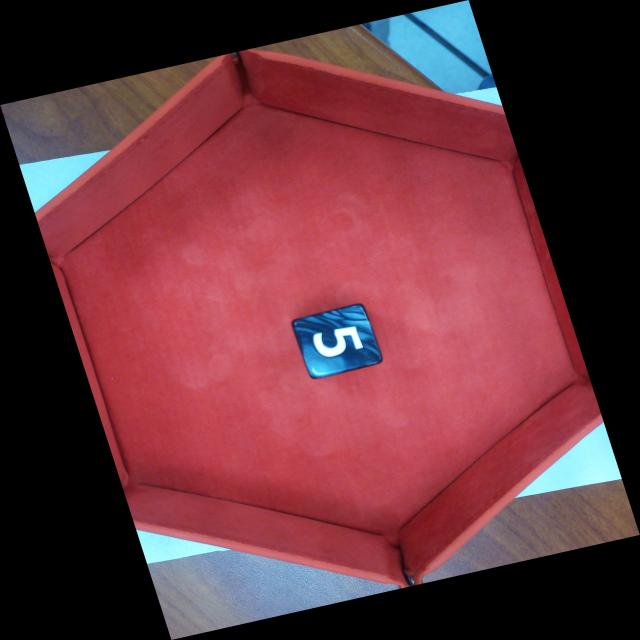dice: (291, 301, 385, 383)
